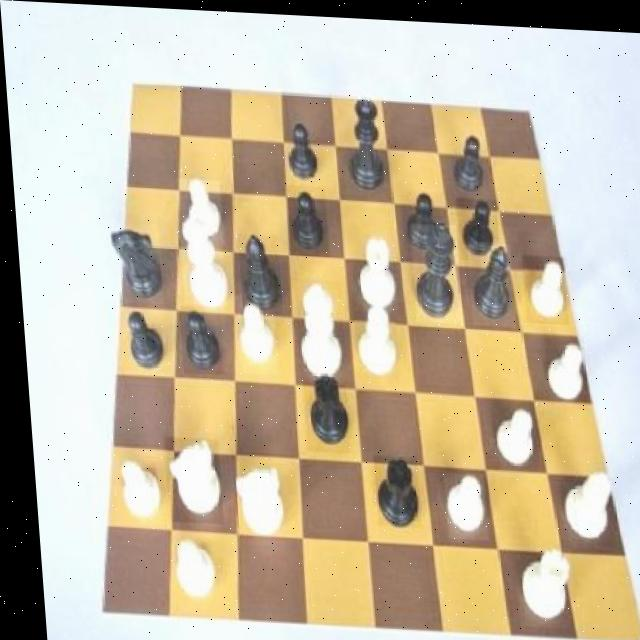bishop: (464, 238, 512, 323), (233, 231, 277, 310)
black-bishop: (407, 219, 457, 319)
black-king: (108, 222, 160, 307)
black-knight: (282, 182, 326, 254), (174, 306, 219, 374), (277, 117, 324, 182), (119, 309, 163, 374), (453, 193, 497, 257), (447, 130, 487, 194), (398, 187, 439, 248)
black-pawn: (338, 89, 385, 193)
black-queen: (296, 370, 345, 449), (366, 452, 414, 524)
black-rook: (549, 464, 610, 537), (349, 300, 394, 377)
white-bishop: (289, 276, 341, 380)
white-king: (157, 436, 216, 523), (224, 450, 279, 539)
white-knight: (165, 539, 215, 607), (232, 294, 274, 373), (518, 251, 565, 321), (110, 455, 158, 521), (537, 335, 582, 404), (485, 399, 532, 465), (174, 177, 221, 243), (437, 468, 481, 535)
white-pawn: (175, 216, 222, 304)
white-queen: (506, 539, 567, 623), (348, 229, 395, 308)
